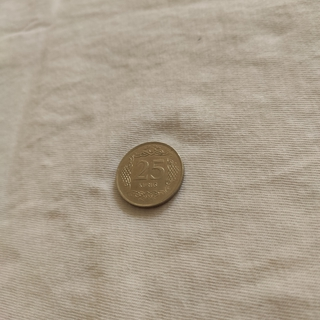25KURUS: (114, 140, 185, 210)
